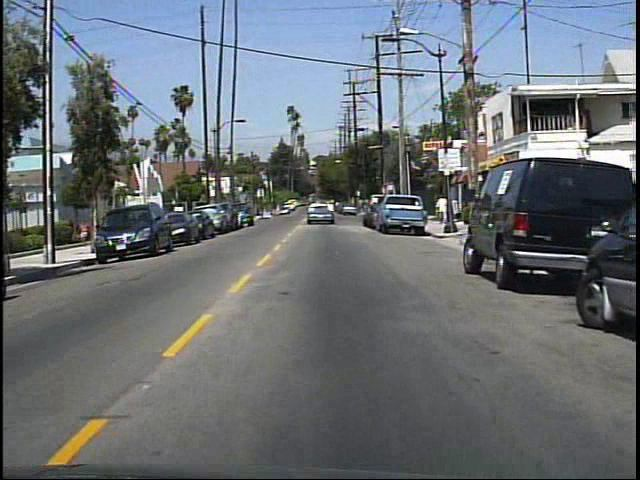person: (436, 193, 455, 228), (79, 218, 95, 246)
